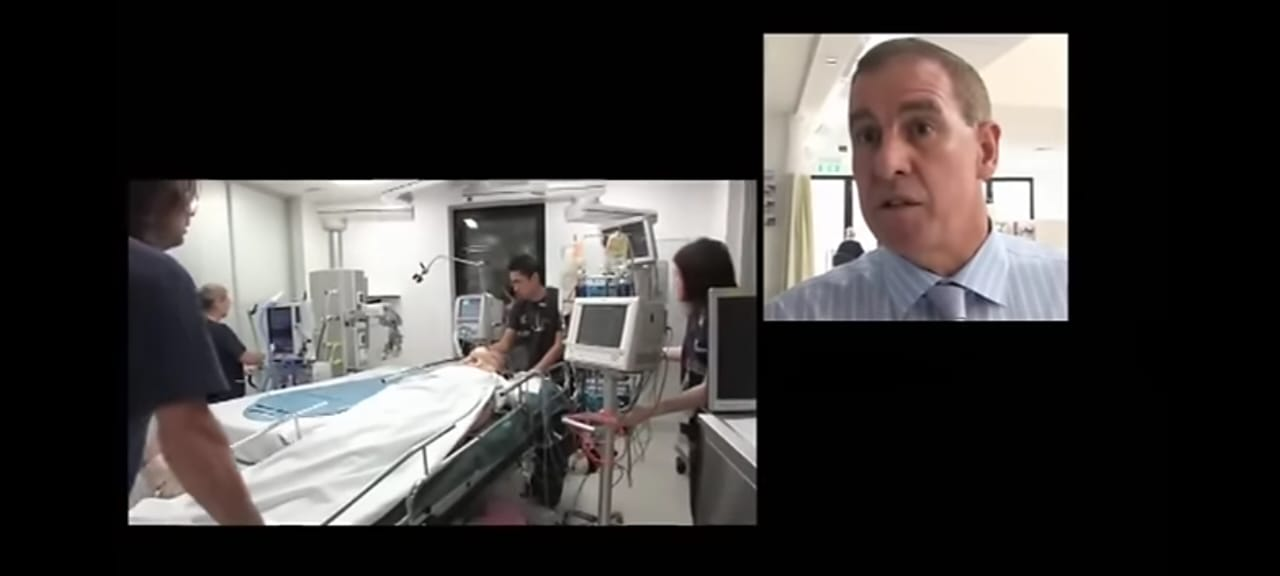doctor: (767, 40, 1066, 322), (121, 179, 256, 525), (656, 227, 748, 424), (484, 244, 563, 356), (196, 280, 251, 385)
patient: (243, 349, 549, 503)
